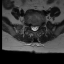CCS_normal: (33, 22, 36, 33)
LFS_severe_stenosis: (38, 22, 41, 30)
LLS_normal: (36, 23, 38, 31)
RFS_severe_stenosis: (28, 21, 30, 28)
RLS_normal: (30, 23, 33, 31)
